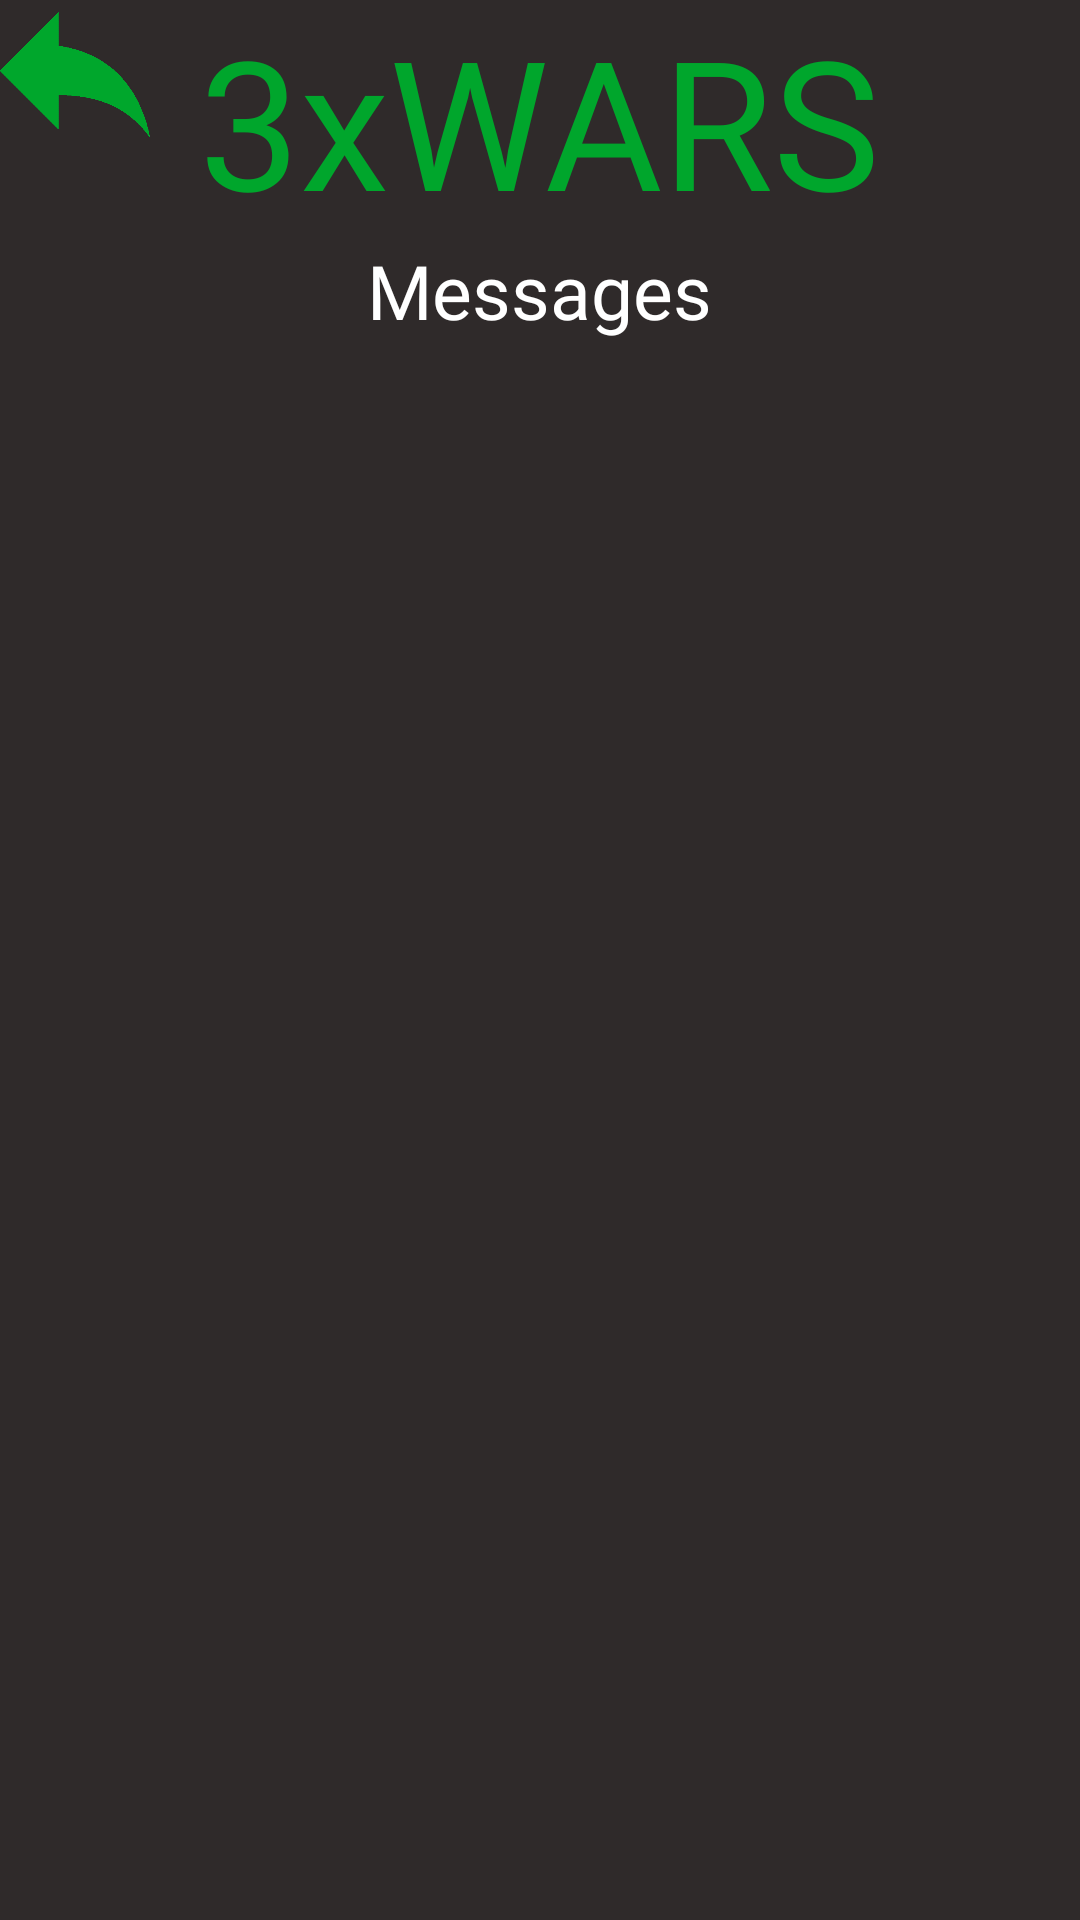

Named icons in this screenshot (1080px x 1920px) and their centers, (x=x, y=y):
flecha: (x=75, y=74)
